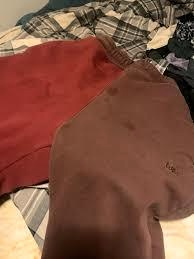oil: (162, 159, 177, 174), (122, 121, 136, 133), (112, 91, 122, 100)
